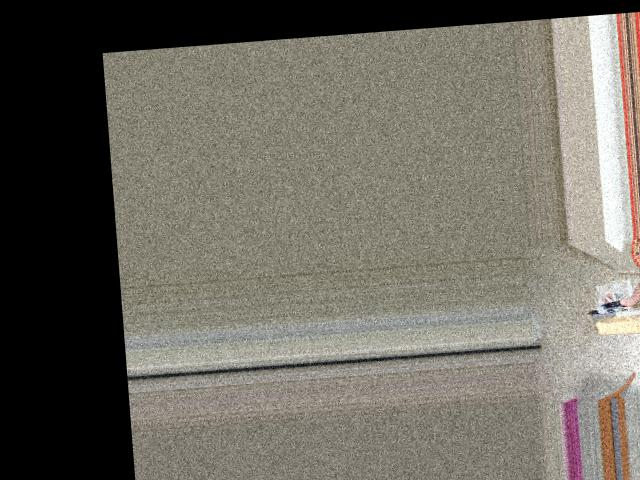cheese: (584, 244, 640, 344)
